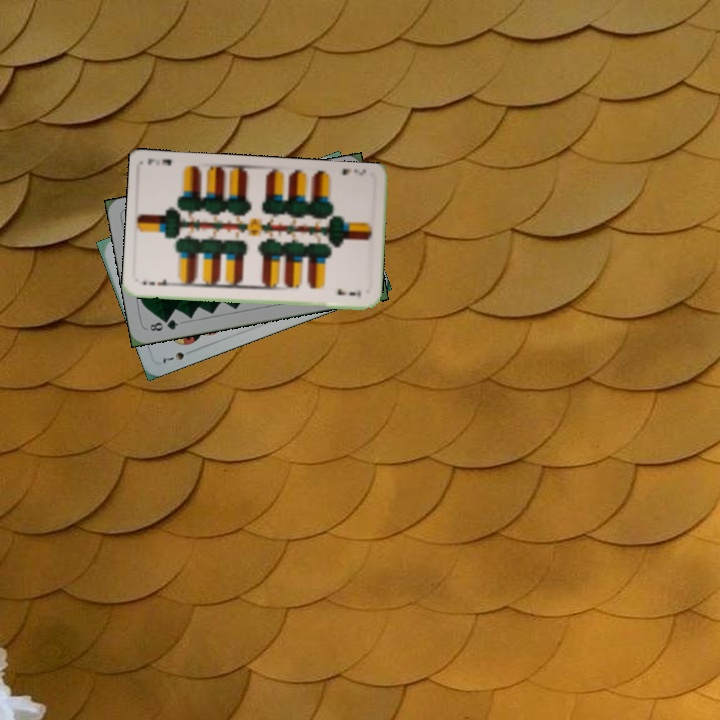E7: (138, 275, 177, 289), (338, 164, 368, 178)
G8: (145, 315, 181, 334)
S7: (158, 348, 187, 366)
